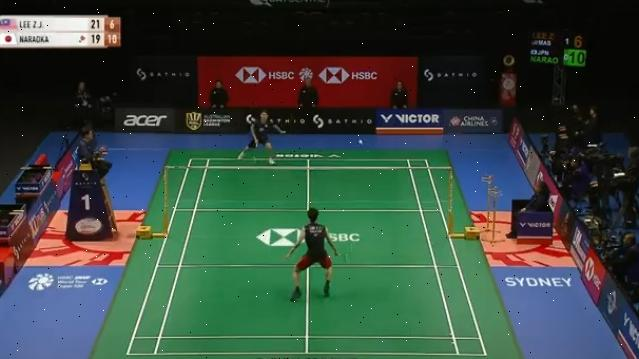Shuttlecock: (356, 138, 366, 148)
